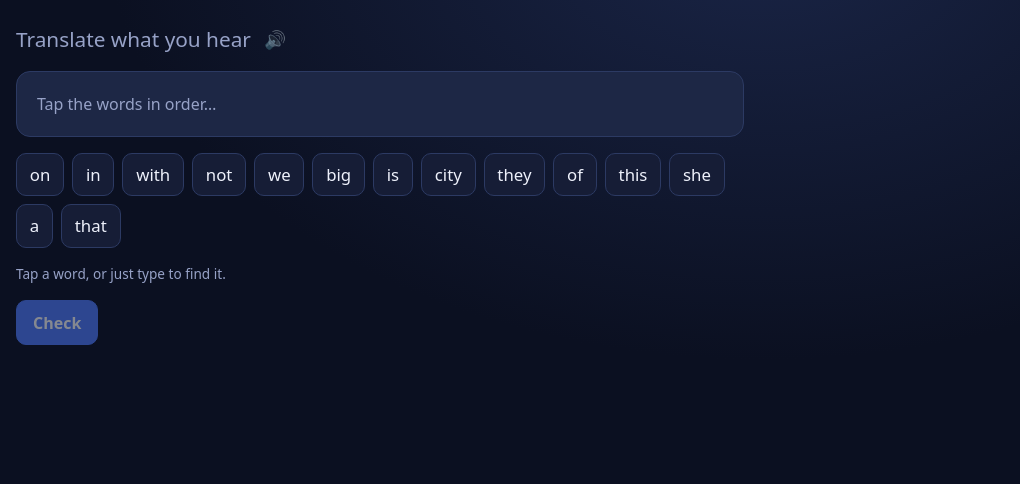
WordBankExercise order-insensitive grading (#267) › reveals the heard sentence in the confirm step so a reordering can be checked (#408)
The image size is (1020, 484).
Step 1. Click the button with class "tile" showing "this" → {"x": 633, "y": 175}, box [605,153,661,196]
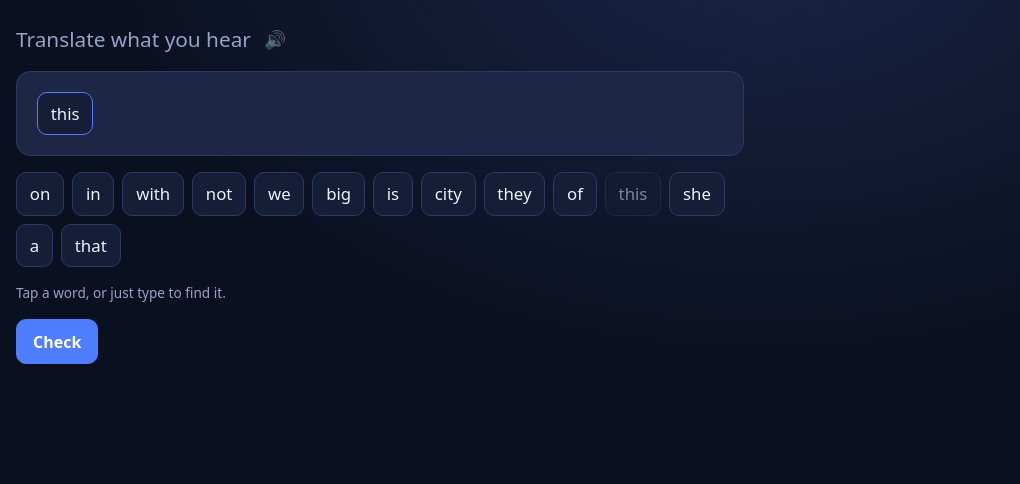
Step 2. Click the button with class "tile" showing "city" → {"x": 448, "y": 194}, box [421,172,476,216]
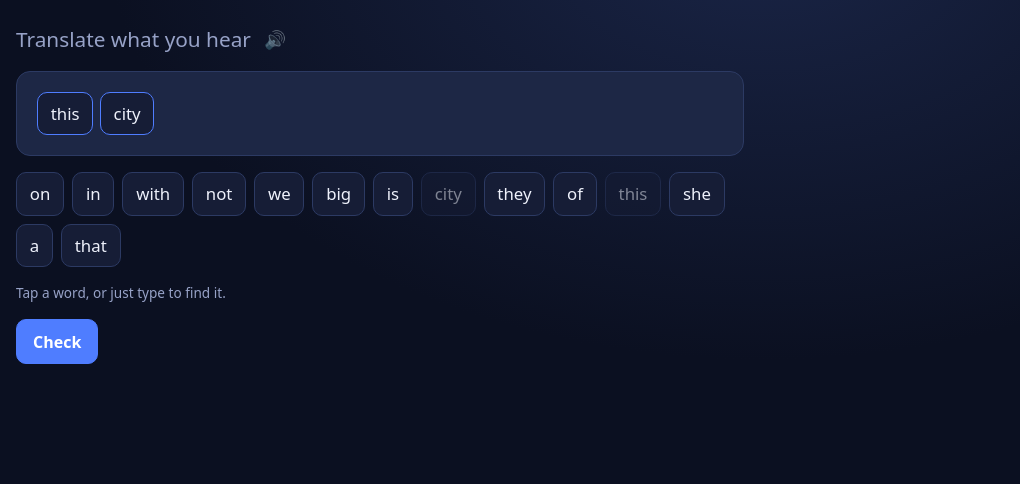
Step 3. Click the button with class "tile" showing "is" → {"x": 393, "y": 194}, box [373,172,413,216]
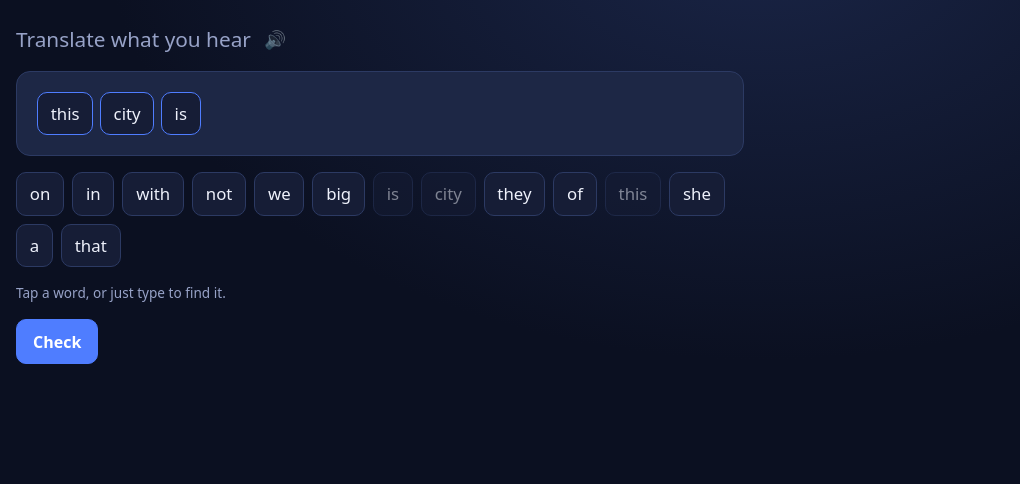
Step 4. Click the button with class "tile" showing "big" → {"x": 339, "y": 194}, box [312,172,365,216]
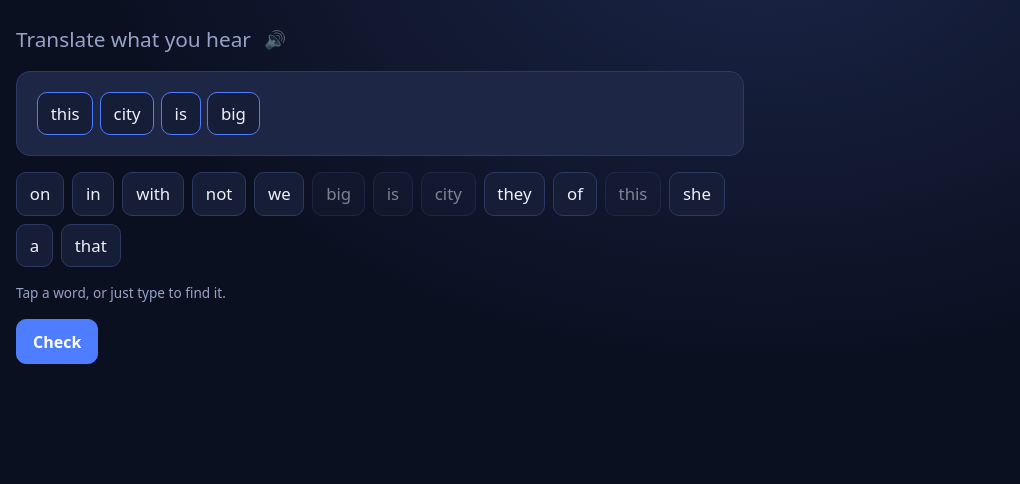
Step 5. Click the button with class "check" → {"x": 57, "y": 342}, box [16,319,98,364]
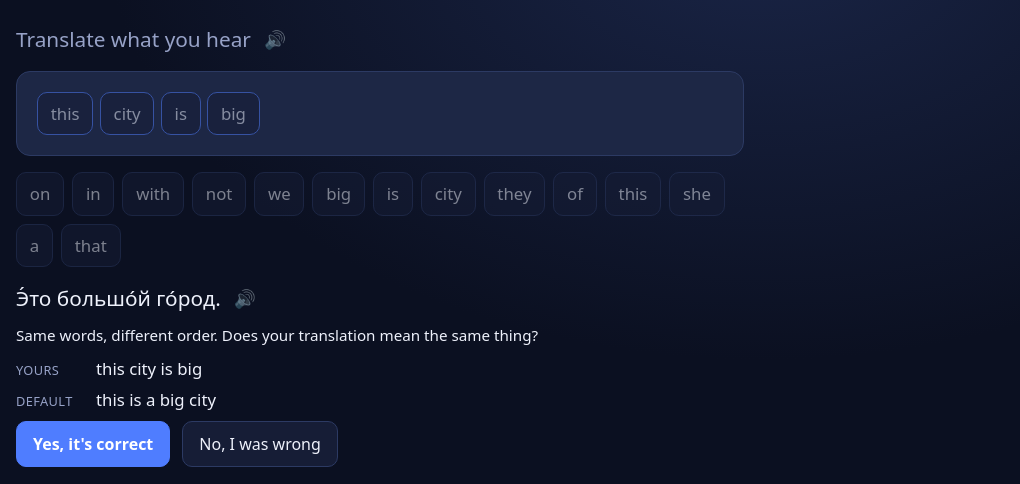
Check: the element with class "confirm-source" is shown, box [16,284,261,312]
Check: the element with class "confirm-source" shows "Э́то большо́й го́род.", box [16,284,221,312]
